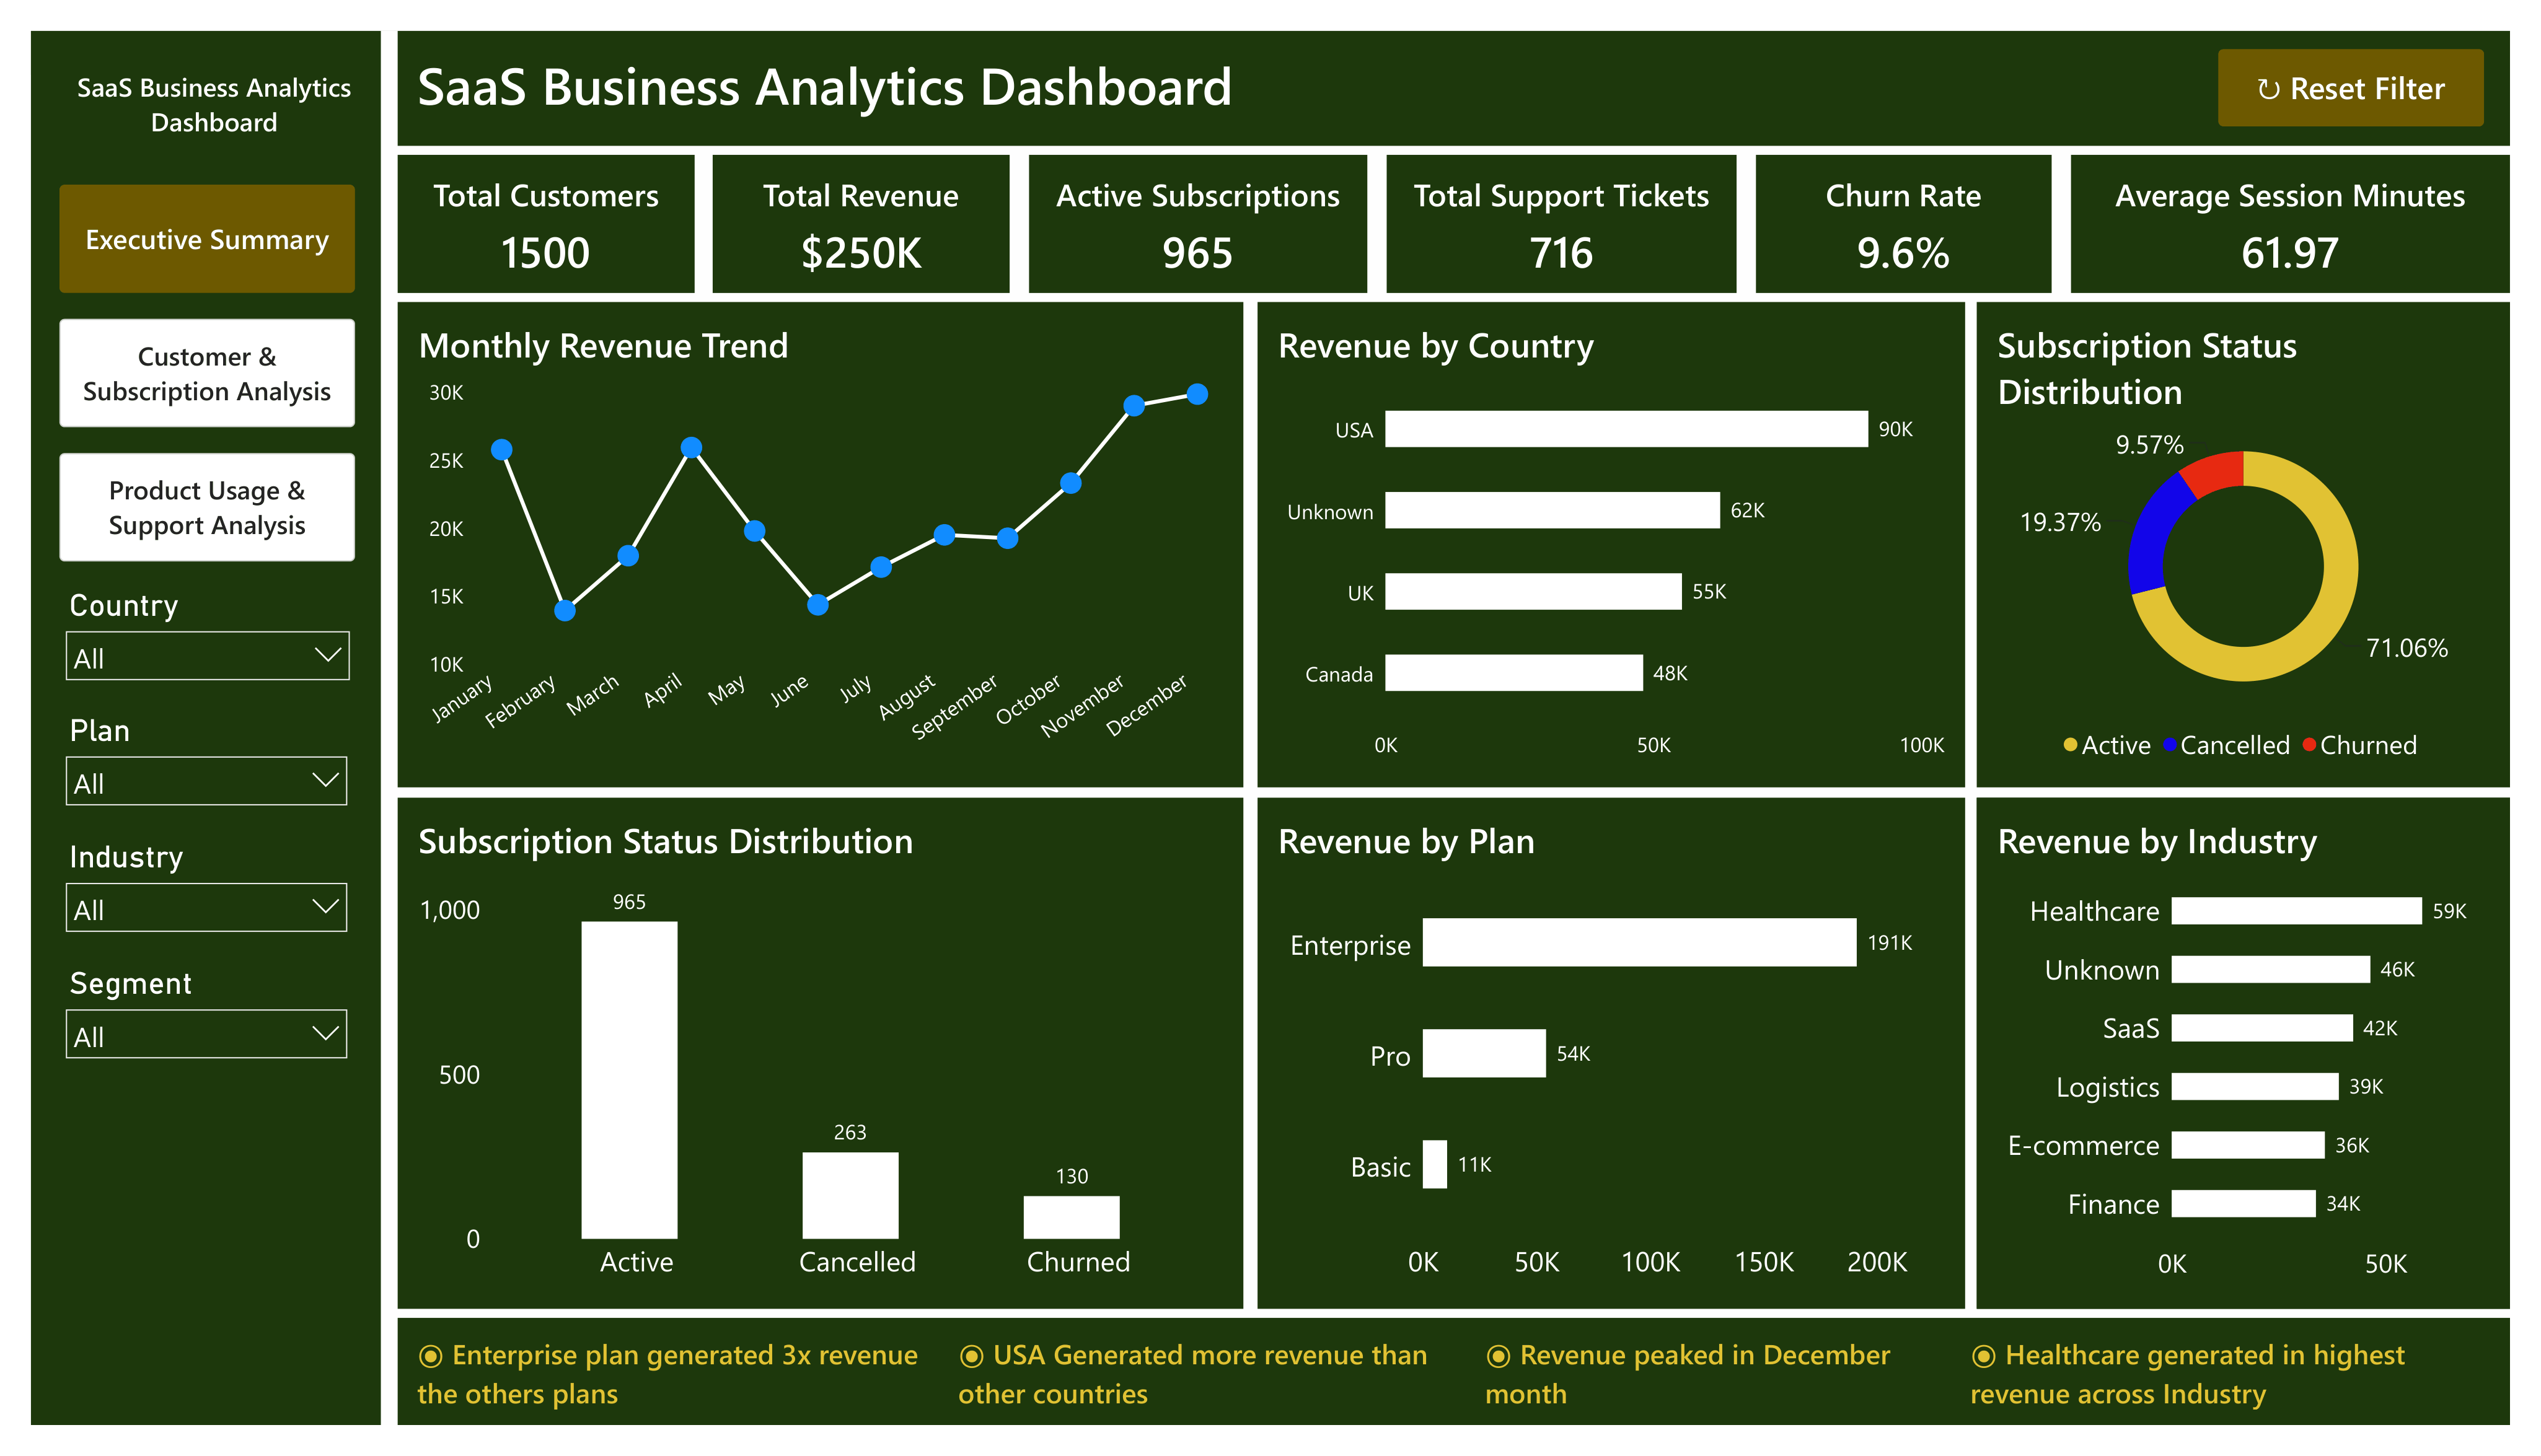

What the dashboard file says about the page in this screenshot:
{"tool":"powerbi","page":{"name":"Executive Summary","canvas":[1920,1080],"ordinal":0},"visuals":[{"type":"shape","box":[0,0,271.4,1080.4],"z":0},{"type":"shape","box":[284.1,0,1635.9,88.7],"z":1000},{"type":"pageNavigator","box":[21.7,119.4,229.8,293.2],"z":2000},{"type":"slicer","fields":{"Values":["customers.Country"]},"box":[21.7,430.7,229.8,79.6],"z":3000},{"type":"slicer","fields":{"Values":["plans.Plan_Name"]},"box":[21.7,528.4,228,79.6],"z":4000},{"type":"slicer","fields":{"Values":["customers.Industry"]},"box":[21.7,626.1,228,79.6],"z":5000},{"type":"slicer","fields":{"Values":["customers.Segment"]},"box":[21.7,723.9,228,79.6],"z":6000},{"type":"textbox","title":"SaaS Business Analytics Dashboard","box":[298.6,14.5,640.6,59.7],"z":7000},{"type":"textbox","title":"SaaS Business Analytics Dashboard","box":[34.4,29,215.3,59.7],"z":8000},{"type":"card","title":"Total Customers","fields":{"Values":["Table.totalcustomers"]},"box":[284.1,95.9,229.8,106.8],"z":9000},{"type":"lineChart","title":"Monthly Revenue Trend","fields":{"Category":["payments.Payment_Date.Variation.Date Hierarchy.Month"],"Y":["Sum(payments.Amount)"]},"box":[284.1,209.9,655.1,376.4],"z":10000},{"type":"barChart","title":"Revenue by Plan","fields":{"Category":["plans.Plan_Name"],"Y":["Sum(payments.Amount)"]},"box":[950.1,593.6,548.3,396],"z":11000},{"type":"columnChart","title":"Subscription Status Distribution","fields":{"Category":["subscriptions.Status"],"Y":["CountNonNull(subscriptions.Subscription_Id)"]},"box":[284.1,593.6,655.1,396],"z":12000},{"type":"clusteredBarChart","title":"Revenue by Country","fields":{"Category":["customers.Country"],"Y":["Sum(payments.Amount)"]},"box":[950.1,209.9,548.3,376.4],"z":13000},{"type":"donutChart","title":"Subscription Status Distribution","fields":{"Category":["subscriptions.Status"],"Y":["CountNonNull(customers.Customer_Id)"]},"box":[1507.4,209.9,412.6,376.4],"z":14000},{"type":"funnel","title":"Revenue by Industry","fields":{"Category":["customers.Industry"],"Y":["Sum(payments.Amount)"]},"box":[1507.4,593.6,412.6,396],"z":15000},{"type":"card","title":"Total Revenue","fields":{"Values":["Table.totalrevenue"]},"box":[528.4,95.9,229.8,106.8],"z":16000},{"type":"card","title":"Active Subscriptions","fields":{"Values":["Table.activesubscriptions"]},"box":[772.7,95.9,262.4,106.8],"z":17000},{"type":"card","title":"Churn Rate","fields":{"Values":["Table.churnrate"]},"box":[1335.5,95.9,229.8,106.8],"z":18000},{"type":"card","title":"Total Support Tickets","fields":{"Values":["Table.totalsupporttickets"]},"box":[1049.6,95.9,271.4,106.8],"z":19000},{"type":"card","title":"Average Session Minutes","fields":{"Values":["Table.avgsessionminutes"]},"box":[1579.8,95.9,340.2,106.8],"z":20000},{"type":"shape","box":[284.1,997.1,1635.9,83],"z":21000},{"type":"textbox","title":"⦿ Enterprise plan generated 3x revenue the others plans","box":[298.6,1009.8,412.6,57.9],"z":22000},{"type":"textbox","title":"⦿ USA Generated more revenue than other countries","box":[718.4,1009.8,398.1,57.9],"z":23000},{"type":"textbox","title":"⦿ Revenue peaked in December month","box":[1125.6,1009.8,352.9,57.9],"z":24000},{"type":"barChart","title":"Revenue by Industry","fields":{"Category":["customers.Industry"],"Y":["Sum(payments.Amount)"]},"box":[1507.4,593.6,412.6,396],"z":25000},{"type":"textbox","title":"⦿ Healthcare generated in highest revenue across Industry","box":[1502,1009.8,383.6,57.9],"z":26000},{"type":"actionButton","box":[1693.8,14.5,206.3,59.7],"z":27000}]}

Visuals, with their boxes on the page's 1920x1080 design canvas (x1, y1, x2, y2). These are canvas units, not pixel positions in the 2541x1456 screenshot, which may show the page scaled, cropped or inside an application window:
shape: locate(0, 0, 271, 1080)
shape: locate(284, 0, 1920, 89)
pageNavigator: locate(22, 119, 252, 413)
slicer - customers.Country: locate(22, 431, 252, 510)
slicer - plans.Plan_Name: locate(22, 528, 250, 608)
slicer - customers.Industry: locate(22, 626, 250, 706)
slicer - customers.Segment: locate(22, 724, 250, 804)
"SaaS Business Analytics Dashboard" textbox: locate(299, 14, 939, 74)
"SaaS Business Analytics Dashboard" textbox: locate(34, 29, 250, 89)
"Total Customers" card: locate(284, 96, 514, 203)
"Monthly Revenue Trend" lineChart: locate(284, 210, 939, 586)
"Revenue by Plan" barChart: locate(950, 594, 1498, 990)
"Subscription Status Distribution" columnChart: locate(284, 594, 939, 990)
"Revenue by Country" clusteredBarChart: locate(950, 210, 1498, 586)
"Subscription Status Distribution" donutChart: locate(1507, 210, 1920, 586)
"Revenue by Industry" funnel: locate(1507, 594, 1920, 990)
"Total Revenue" card: locate(528, 96, 758, 203)
"Active Subscriptions" card: locate(773, 96, 1035, 203)
"Churn Rate" card: locate(1336, 96, 1565, 203)
"Total Support Tickets" card: locate(1050, 96, 1321, 203)
"Average Session Minutes" card: locate(1580, 96, 1920, 203)
shape: locate(284, 997, 1920, 1080)
"⦿ Enterprise plan generated 3x revenue the others plans" textbox: locate(299, 1010, 711, 1068)
"⦿ USA Generated more revenue than other countries" textbox: locate(718, 1010, 1116, 1068)
"⦿ Revenue peaked in December month" textbox: locate(1126, 1010, 1478, 1068)
"Revenue by Industry" barChart: locate(1507, 594, 1920, 990)
"⦿ Healthcare generated in highest revenue across Industry" textbox: locate(1502, 1010, 1886, 1068)
actionButton: locate(1694, 14, 1900, 74)
